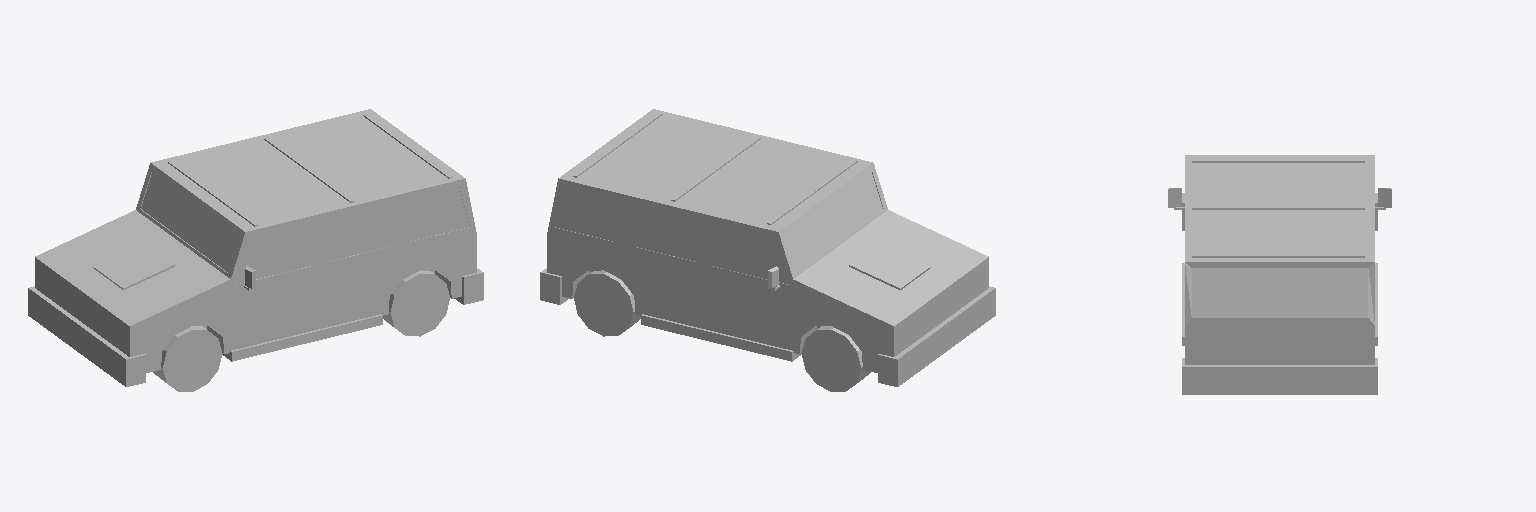
File: SUV.obj
3 renders of one model, left to right at view 1: azimuth 30°, elevation 25°; view 2: azimuth 150°, elevation 25°; view 3: azimuth 270°, elevation 25°, orthographic.
Parts seen in each view (by area): view 1: SUV; view 2: SUV; view 3: SUV.
Boxes of the visible parts, <box> form: SUV: <box>28,109,483,391</box>; SUV: <box>540,109,995,391</box>; SUV: <box>1168,155,1391,394</box>.
Bounding box in the file's own units: 226 × 89.56 × 122.